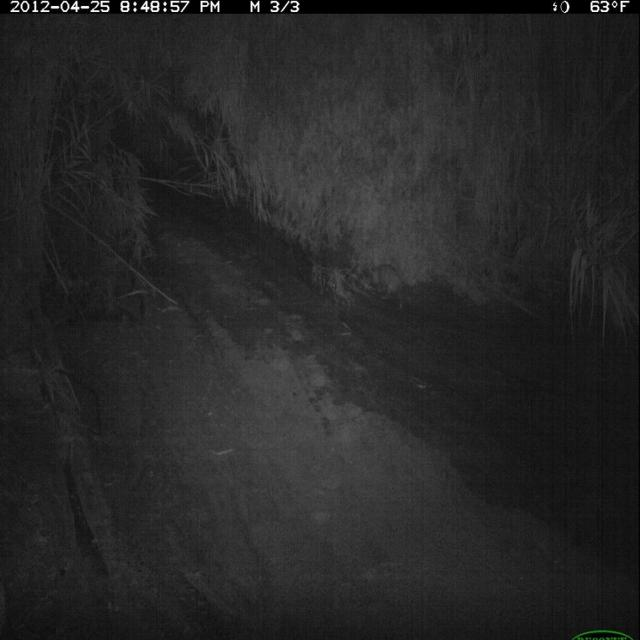opossum: (369, 260, 413, 312)
